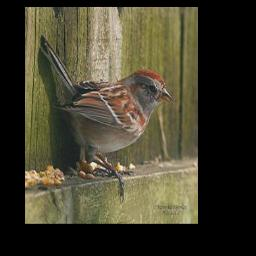Sparrow: (39, 35, 173, 203)
